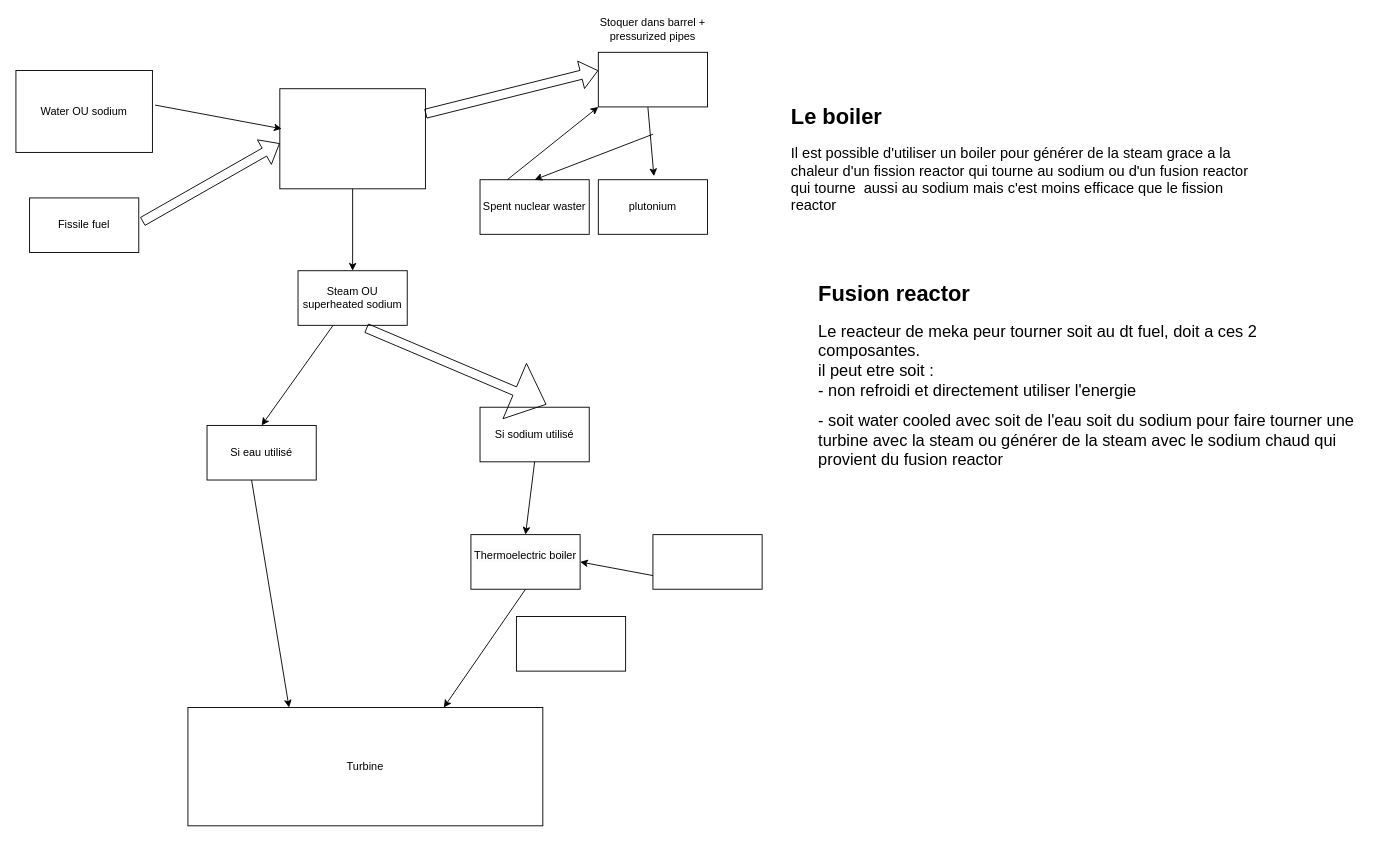
Some shapes in this 1379 by 842 pixel diagram are drawn without their labels. Here are the shapes that lost their labels. From the top down, the centre of each, then its label:
At [652,79]: "Nuclear waste".
At [352,138]: "Fission reactor".
At [707,561]: "Eau".
At [571,643]: "Steam".
